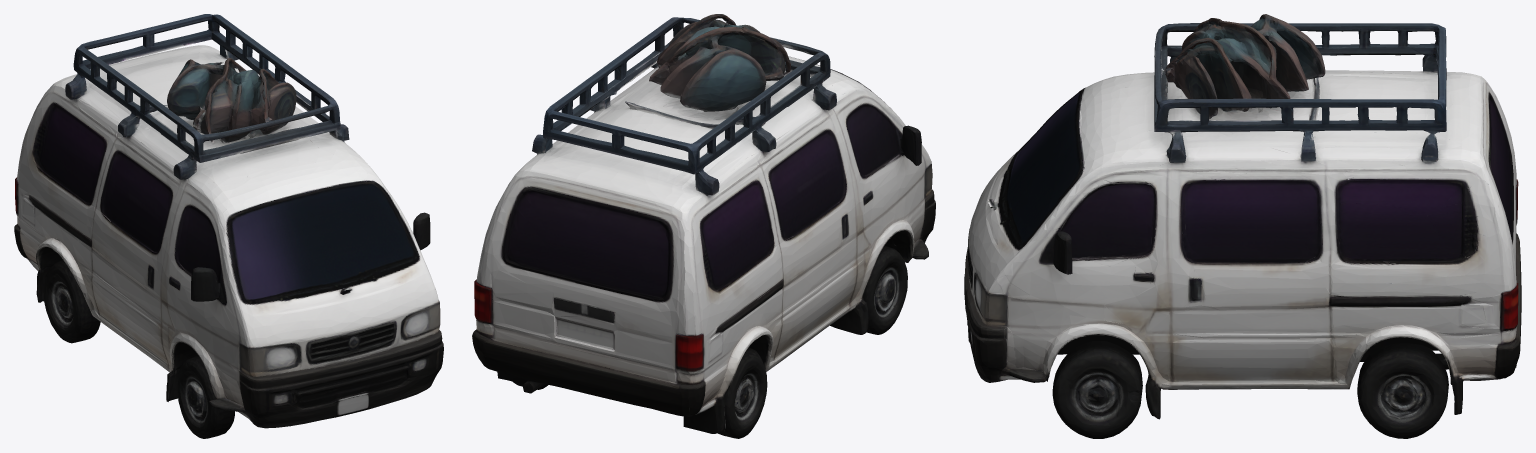
File: amjad_van.glb
The picture shows the model from 3 angles, left to right: view 1: azimuth 30°, elevation 25°; view 2: azimuth 150°, elevation 25°; view 3: azimuth 270°, elevation 25°; orthographic projection. The views are drawn at different scales.
Parts seen in each view (by area): view 1: world; view 2: world; view 3: world.
Boxes of the visible parts, <box> form: world: <box>14,14,443,438</box>; world: <box>472,14,935,438</box>; world: <box>964,14,1521,438</box>.
Bounding box in the file's own units: 0.5691 × 0.6998 × 0.9983.
Materials: 1 (1 with a texture image).
